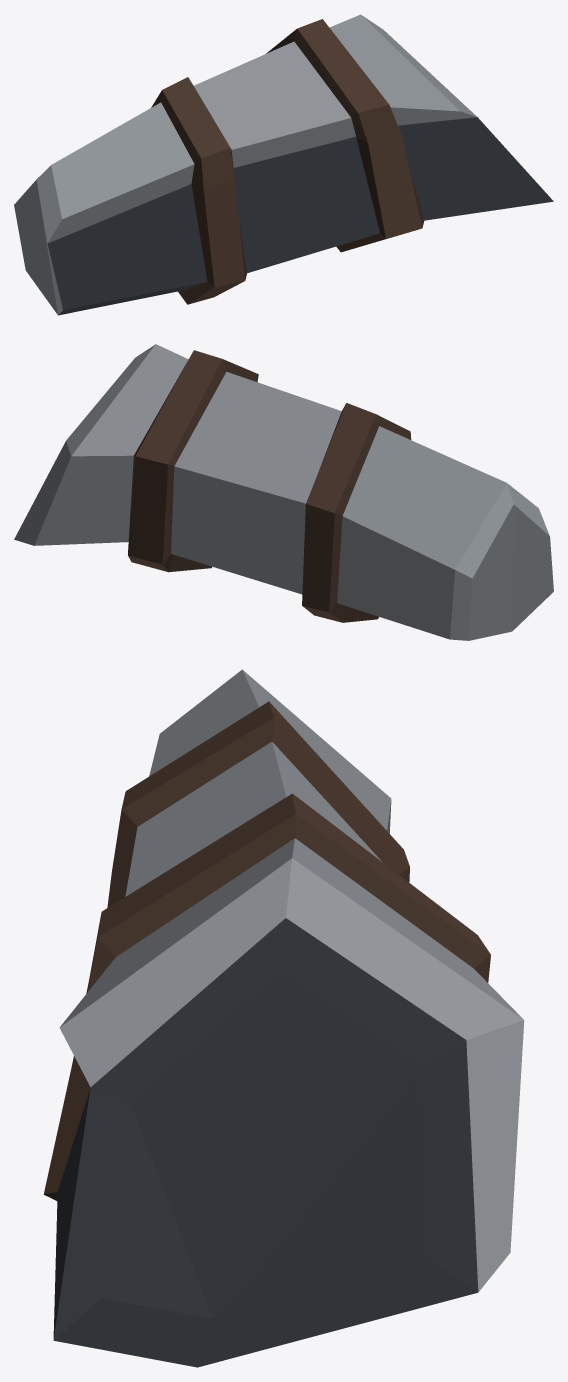
File: Chr_ArmUpperRight_Female_07_Static.fbx
3 renders of one model, top to bottom at view 1: azimuth 30°, elevation 25°; view 2: azimuth 150°, elevation 25°; view 3: azimuth 270°, elevation 25°, orthographic. The views are drawn at different scales.
Visible parts, largest first — view 1: Chr_ArmUpperRight_Female_07_Static; view 2: Chr_ArmUpperRight_Female_07_Static; view 3: Chr_ArmUpperRight_Female_07_Static.
Part boxes in pixels (bbox=[...]): Chr_ArmUpperRight_Female_07_Static: bbox=[14, 14, 553, 315]; Chr_ArmUpperRight_Female_07_Static: bbox=[14, 344, 553, 640]; Chr_ArmUpperRight_Female_07_Static: bbox=[43, 669, 524, 1367].
Bounding box in the file's own units: 0.3535 × 0.1649 × 0.1539.
